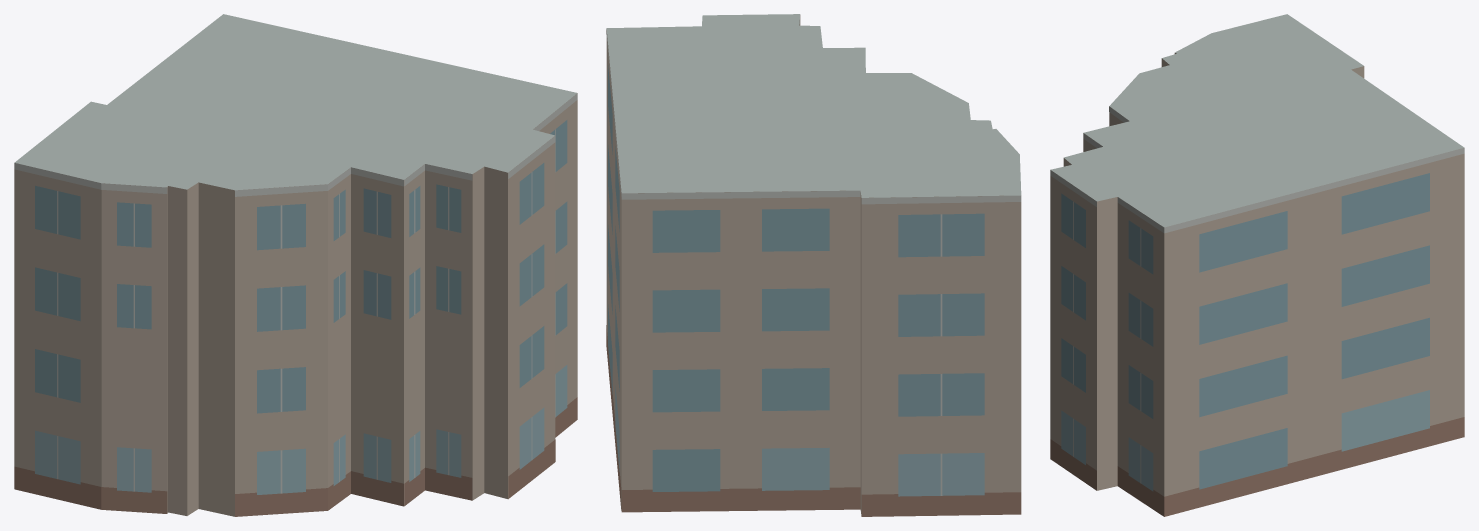
File: survey-upis-32940106.glb
3 renders of one model, left to right at view 1: azimuth 30°, elevation 25°; view 2: azimuth 150°, elevation 25°; view 3: azimuth 270°, elevation 25°, orthographic. The views are drawn at different scales.
Visible parts, largest first — view 1: survey-upis-32940106.tmp; view 2: survey-upis-32940106.tmp; view 3: survey-upis-32940106.tmp.
Boxes of the visible parts, left/top/right/bottom form: survey-upis-32940106.tmp: left=14, top=14, right=577, bottom=516; survey-upis-32940106.tmp: left=606, top=14, right=1021, bottom=516; survey-upis-32940106.tmp: left=1050, top=14, right=1464, bottom=516.
Size of the model in its own units: 19.08 by 12.05 by 15.65.
